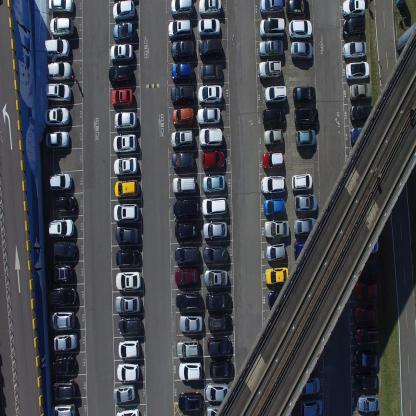car: (46, 285, 76, 308), (44, 81, 72, 104), (50, 376, 75, 401), (353, 278, 381, 300), (46, 262, 74, 284), (49, 308, 75, 331), (48, 216, 74, 239), (259, 16, 286, 38), (113, 201, 140, 223), (115, 269, 142, 291), (53, 330, 78, 353), (206, 334, 232, 356), (354, 347, 380, 369), (178, 390, 204, 412), (175, 290, 201, 312), (174, 244, 200, 266), (170, 84, 196, 106), (44, 106, 70, 128), (44, 37, 70, 59), (205, 290, 232, 311), (112, 132, 139, 153), (198, 37, 222, 60), (107, 64, 132, 86), (53, 240, 78, 262), (197, 83, 223, 104), (201, 195, 227, 216), (207, 313, 233, 334), (204, 381, 230, 402), (354, 256, 380, 277), (113, 178, 139, 199), (350, 126, 377, 146), (263, 218, 290, 238), (114, 294, 141, 314), (355, 326, 379, 348), (345, 59, 369, 81), (342, 16, 366, 38), (262, 148, 284, 172), (258, 58, 282, 80), (298, 350, 322, 372), (170, 38, 194, 60), (112, 21, 136, 43), (52, 353, 76, 375), (209, 358, 234, 379), (264, 265, 289, 286), (261, 174, 286, 195), (167, 17, 192, 38), (113, 156, 138, 177), (115, 224, 140, 245), (198, 127, 224, 147), (202, 244, 228, 264), (350, 102, 376, 122), (174, 266, 200, 286), (173, 198, 199, 218), (44, 129, 70, 149), (257, 39, 284, 58), (289, 18, 312, 40), (170, 127, 193, 149), (171, 61, 194, 83), (112, 0, 135, 22), (55, 194, 78, 216), (178, 360, 202, 381), (176, 338, 200, 359), (110, 43, 134, 64), (113, 109, 137, 130), (48, 171, 72, 192), (196, 106, 221, 126), (201, 150, 226, 170), (354, 371, 379, 391), (354, 233, 379, 253), (46, 60, 71, 80), (202, 221, 228, 240), (174, 221, 200, 240), (294, 238, 316, 260), (172, 105, 194, 127), (290, 41, 313, 62), (117, 338, 140, 359), (294, 106, 318, 126), (267, 290, 291, 310), (110, 87, 134, 107), (116, 247, 140, 267), (116, 362, 140, 382), (49, 15, 73, 35), (261, 107, 286, 126), (172, 175, 197, 194), (355, 305, 377, 326), (294, 216, 316, 237), (264, 196, 286, 217), (172, 150, 194, 171), (292, 85, 315, 105), (264, 84, 287, 104), (297, 376, 320, 396), (204, 268, 228, 287), (356, 393, 380, 412), (348, 81, 372, 100), (342, 40, 366, 59), (294, 194, 318, 213), (179, 314, 203, 333), (118, 316, 142, 335), (112, 384, 136, 403), (341, 0, 366, 18), (266, 241, 286, 263), (198, 17, 221, 36), (201, 174, 225, 192), (286, 0, 310, 18), (295, 128, 316, 148), (291, 172, 313, 191), (198, 0, 222, 17), (258, 0, 283, 16), (301, 398, 323, 416), (200, 63, 222, 81), (170, 0, 194, 16), (263, 128, 284, 146), (49, 402, 76, 416), (48, 0, 74, 14), (206, 404, 231, 415), (115, 406, 140, 416)
